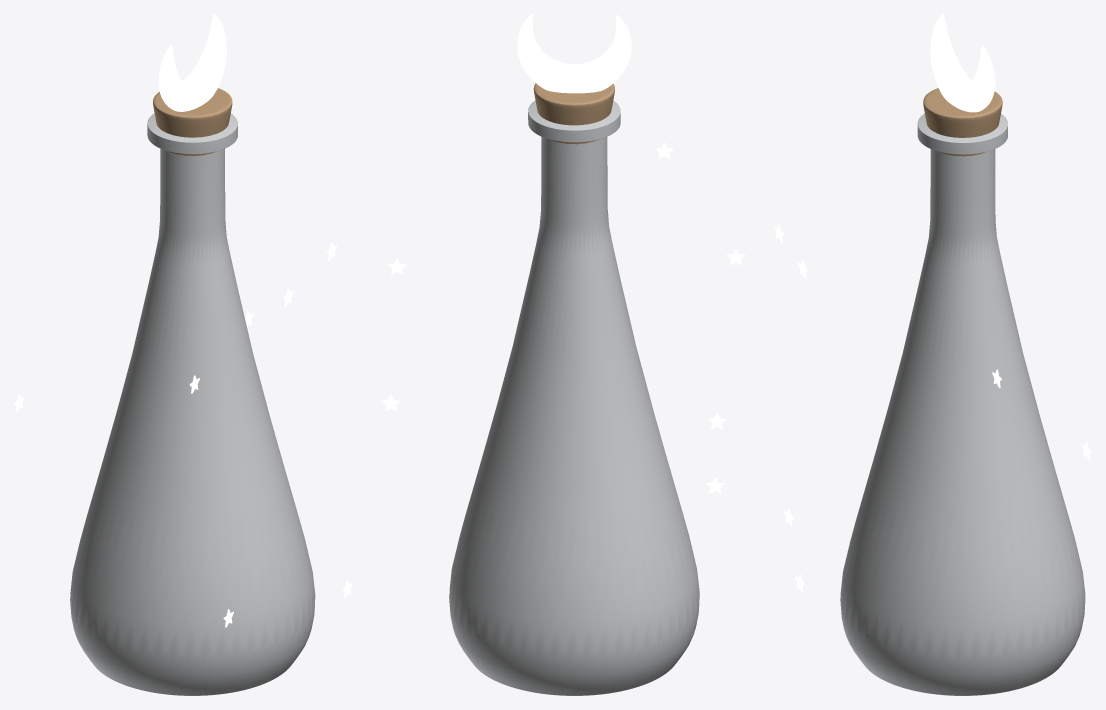
File: nightdraught.glb
3 renders of one model, left to right at view 1: azimuth 30°, elevation 25°; view 2: azimuth 150°, elevation 25°; view 3: azimuth 270°, elevation 25°, orthographic. The views are drawn at different scales.
Parts seen in each view (by area): view 1: NightDraught_Glass, NightDraught_CrescentMoon, NightDraught_Cork; view 2: NightDraught_Glass, NightDraught_CrescentMoon, NightDraught_Cork; view 3: NightDraught_Glass, NightDraught_CrescentMoon, NightDraught_Cork.
Part boxes in pixels (x1,y1,x2,y2): NightDraught_Glass: (70, 113, 315, 695); NightDraught_CrescentMoon: (158, 14, 226, 111); NightDraught_Cork: (153, 88, 232, 155); NightDraught_Glass: (449, 100, 699, 695); NightDraught_CrescentMoon: (517, 14, 631, 93); NightDraught_Cork: (533, 83, 614, 144); NightDraught_Glass: (840, 113, 1085, 695); NightDraught_CrescentMoon: (930, 14, 995, 112); NightDraught_Cork: (923, 88, 1002, 156).
Size of the model in its own units: 1.75 by 3.18 by 1.47.
